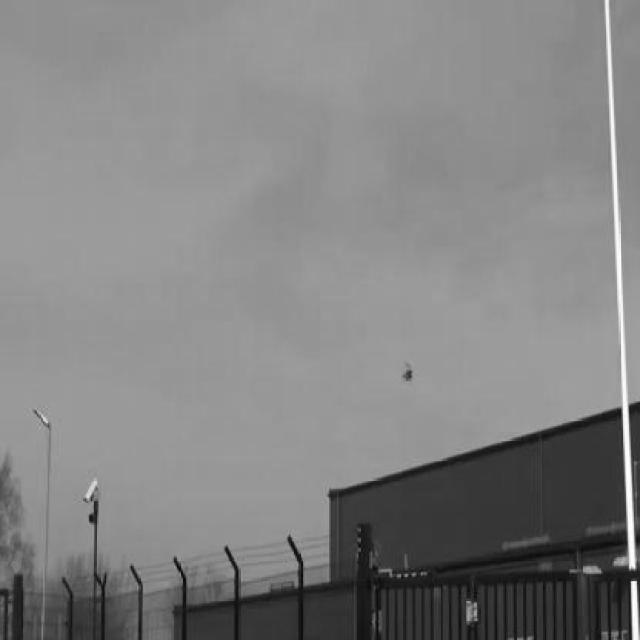helikopter: (394, 356, 420, 390)
